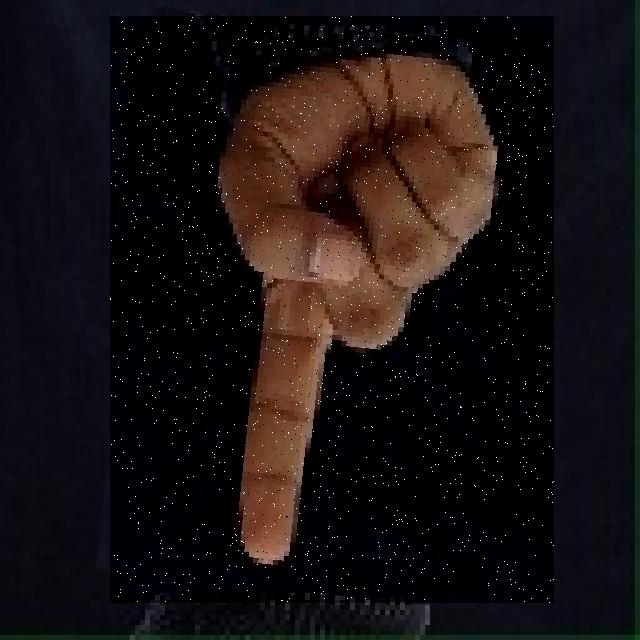IloveYou: (110, 16, 554, 603)
